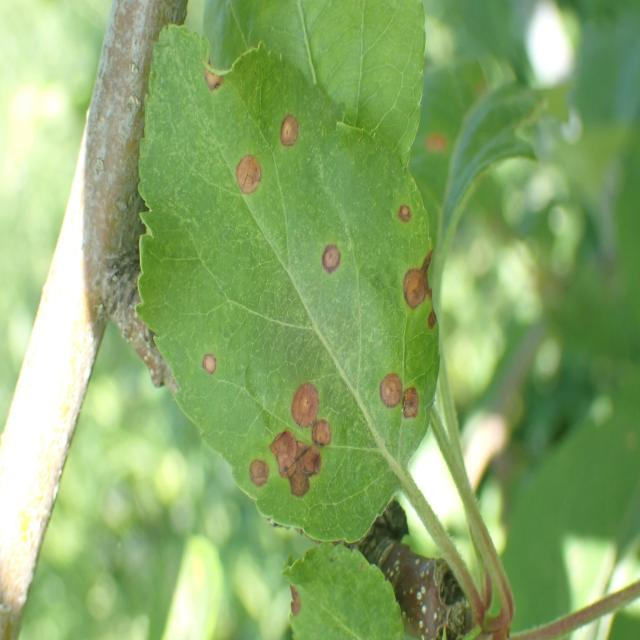frog-eye-leaf-spot: (135, 24, 441, 548)
